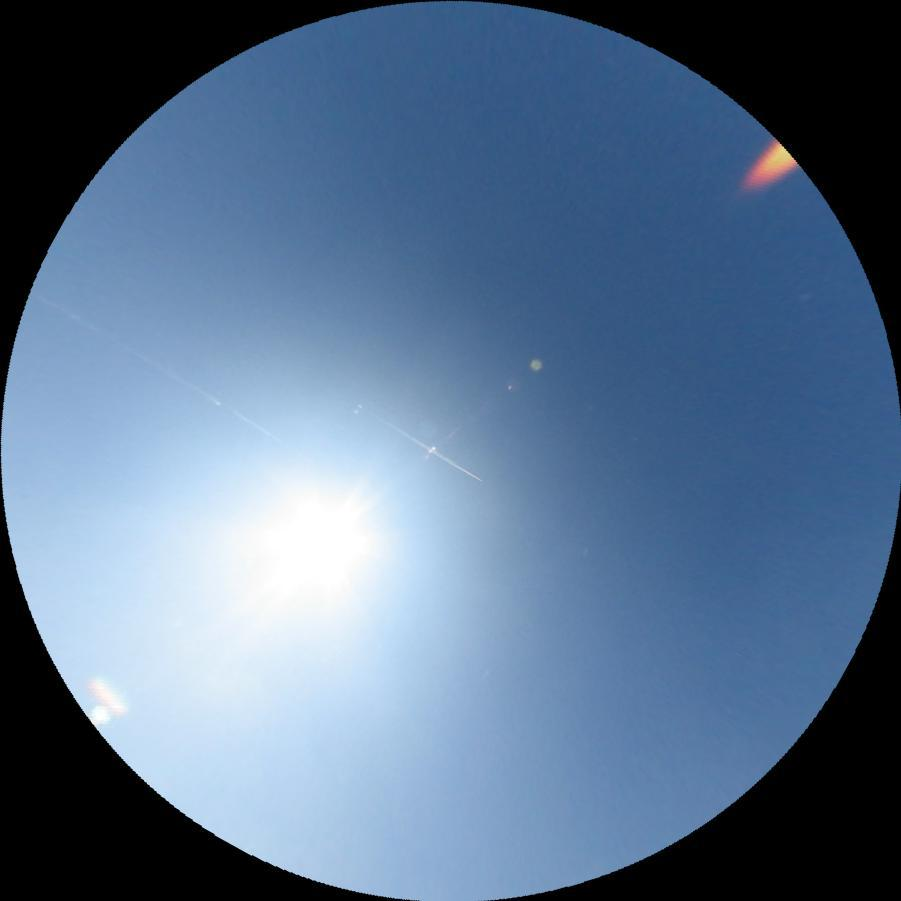contrail young: (387, 422, 484, 483)
parasite: (26, 285, 287, 445)
sun: (257, 489, 370, 595)
